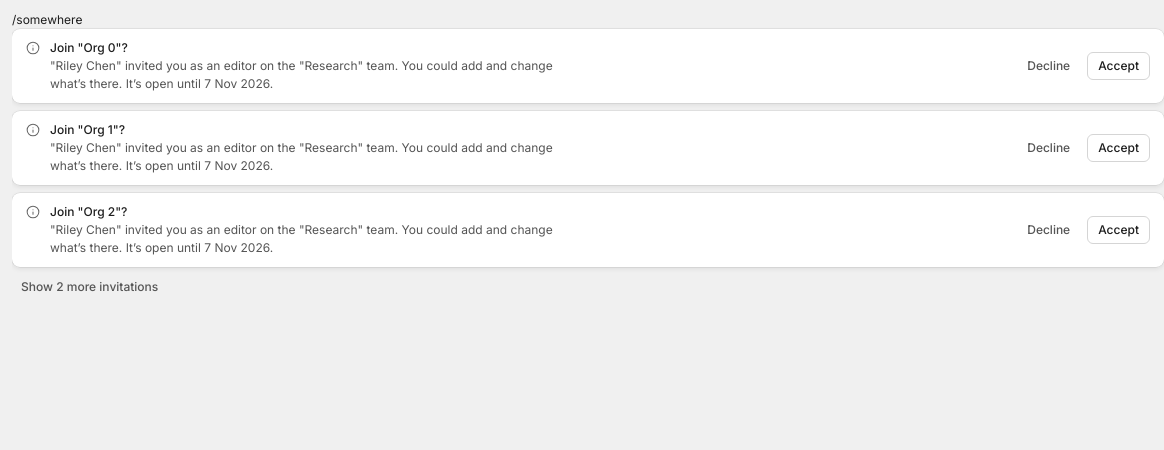
Test: the invitations waiting for a person › show three, with the rest a press away
Expected: the number of list items is 3, top-left (12, 29), bottom-right (1163, 103); top-left (12, 111), bottom-right (1163, 185); top-left (12, 193), bottom-right (1163, 267)
Click the button "Show 2 more invitations".
click(90, 287)  # box top-left (12, 275), bottom-right (167, 299)
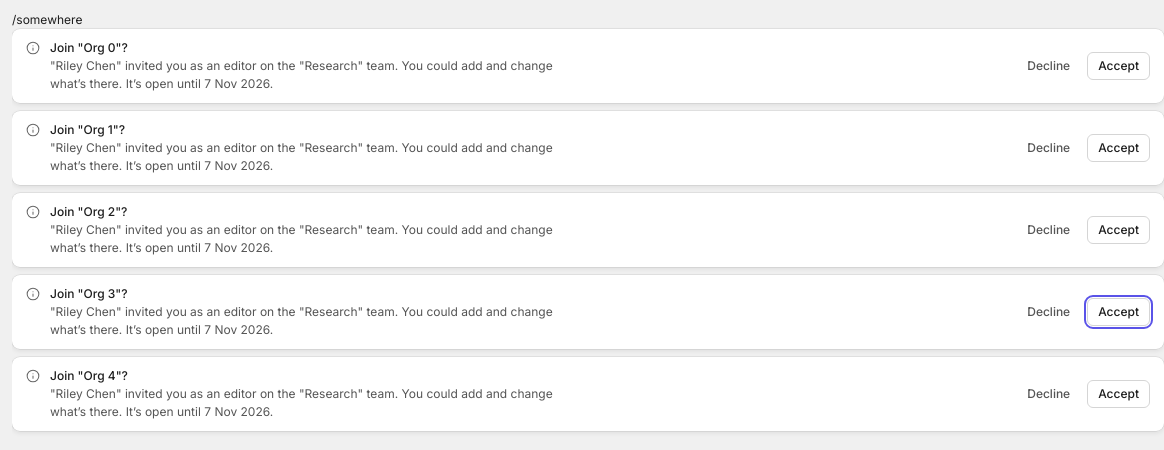
Now the number of list items is 5, box top-left (12, 29), bottom-right (1163, 103); top-left (12, 111), bottom-right (1163, 185); top-left (12, 193), bottom-right (1163, 267); top-left (12, 275), bottom-right (1163, 349); top-left (12, 357), bottom-right (1163, 431)
